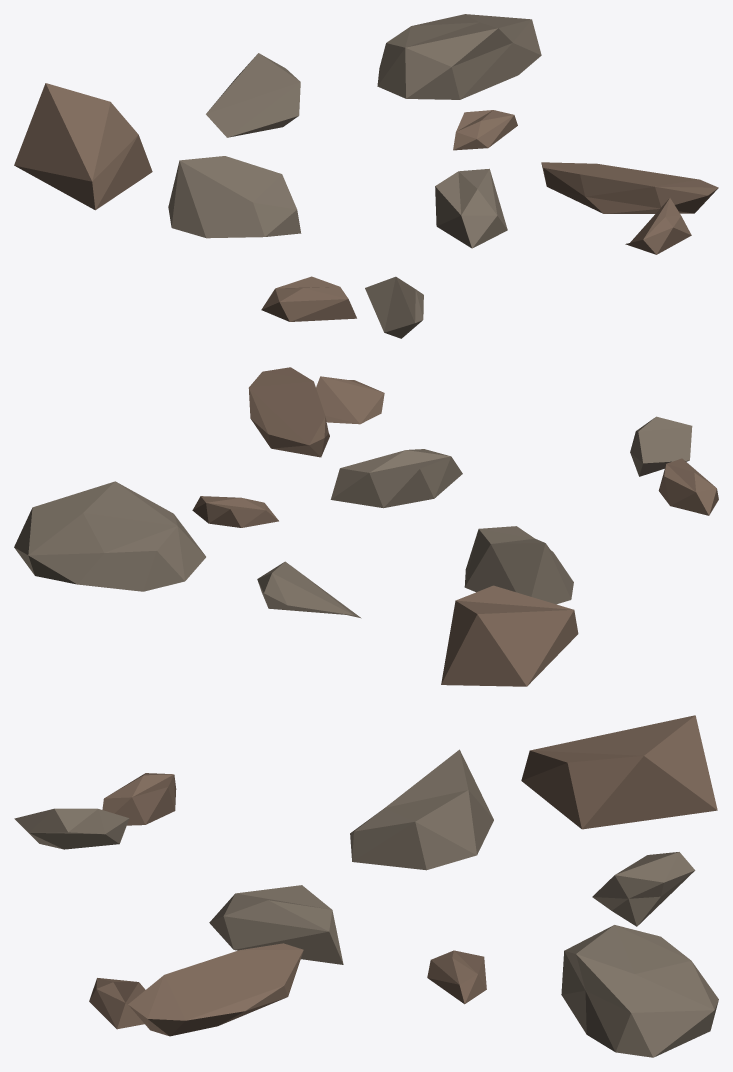
Rendered from Stone 5.glb.
3 renders of one model, top to bottom at view 1: azimuth 30°, elevation 25°; view 2: azimuth 150°, elevation 25°; view 3: azimuth 270°, elevation 25°, orthographic. The views are drawn at different scales.
Parts seen in each view (by area): view 1: Stone 5; view 2: Stone 5; view 3: Stone 5.
Part boxes in pixels (bbox=[...]): Stone 5: bbox=[14, 14, 718, 338]; Stone 5: bbox=[14, 367, 718, 686]; Stone 5: bbox=[14, 715, 718, 1057].
Size of what is drawn, in the model's own units: 2.32 by 0.3189 by 2.37.
1 material, 1 textured.
